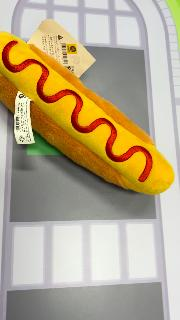hotdog: (1, 31, 175, 196)
